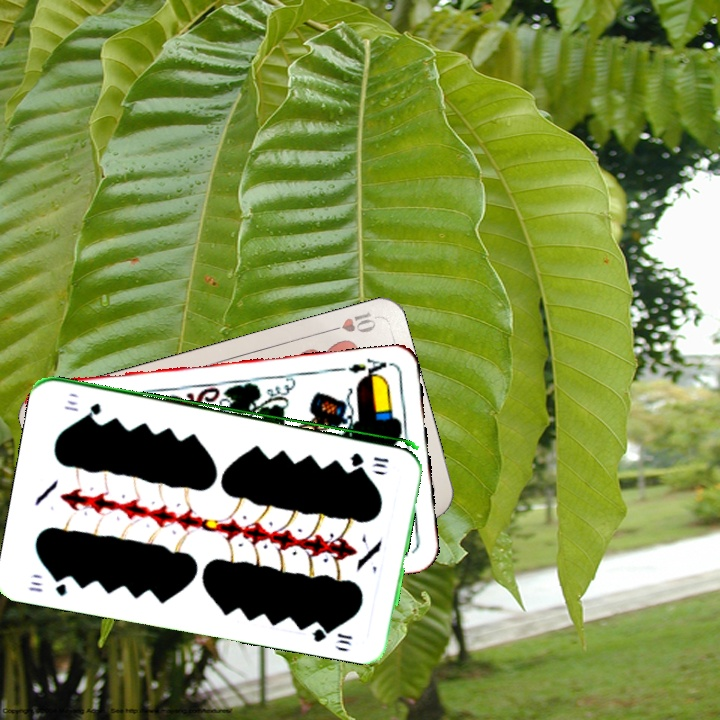EA: (344, 354, 394, 383)
G10: (25, 572, 69, 598), (346, 449, 392, 471)
H10: (321, 307, 380, 336)
